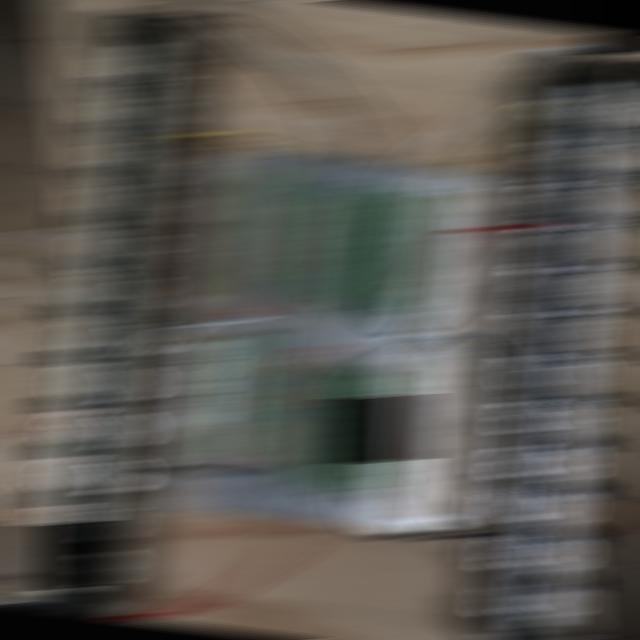Flathead_Block: (12, 5, 198, 620)
Phillips_Block: (487, 52, 640, 640)
Terminal_1: (205, 330, 271, 462), (227, 169, 290, 297)
Terminal_2: (281, 364, 343, 489), (317, 370, 378, 495), (303, 182, 365, 303), (340, 188, 401, 308), (377, 194, 436, 315)
